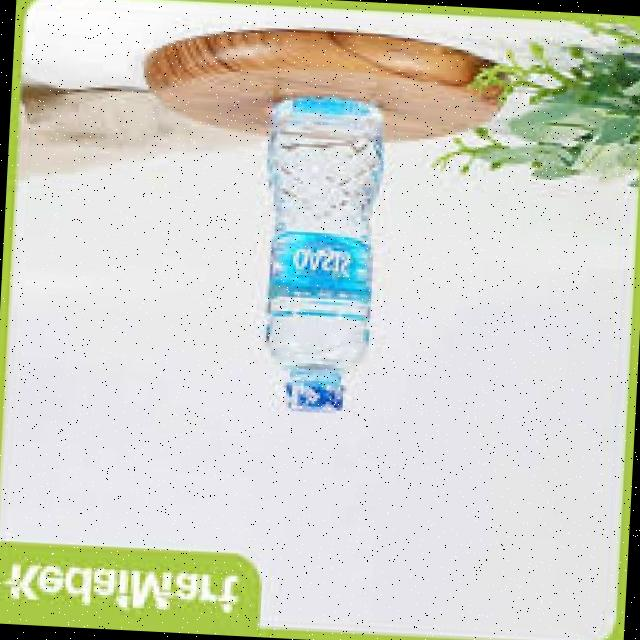bottle: (256, 81, 410, 432)
cap: (282, 373, 352, 415)
label: (260, 228, 388, 304)
